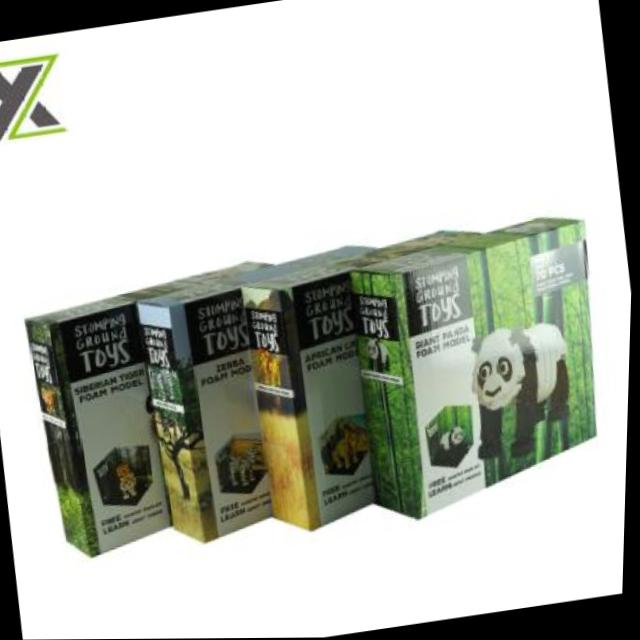box: (332, 187, 636, 558), (217, 207, 406, 561), (17, 260, 228, 566), (125, 241, 311, 577)
